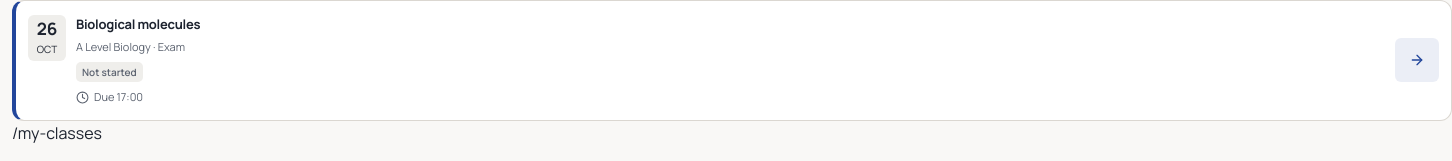
Test: class assignment actions and factual status › opens the existing exam-taking route from the schedule presentation
This screenshot has width=1452, height=161.
Click the button named "Start" at (1417, 60), box [1395,38,1439,82]
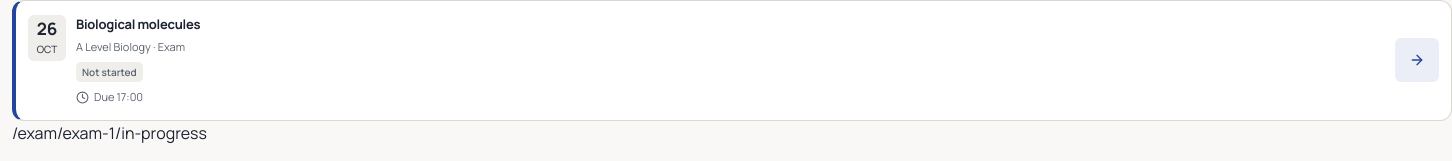
Check: the text named "Current location" reads "/exam/exam-1/in-progress", box [12,122,207,144]
